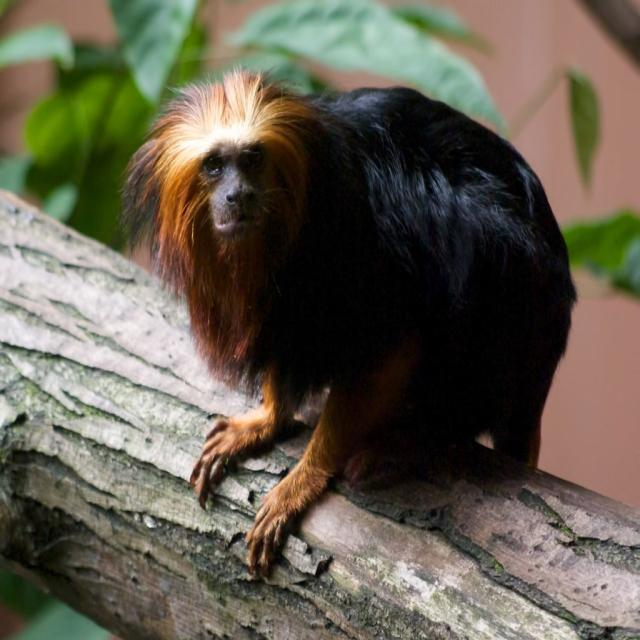Monkey: (140, 60, 582, 609)
